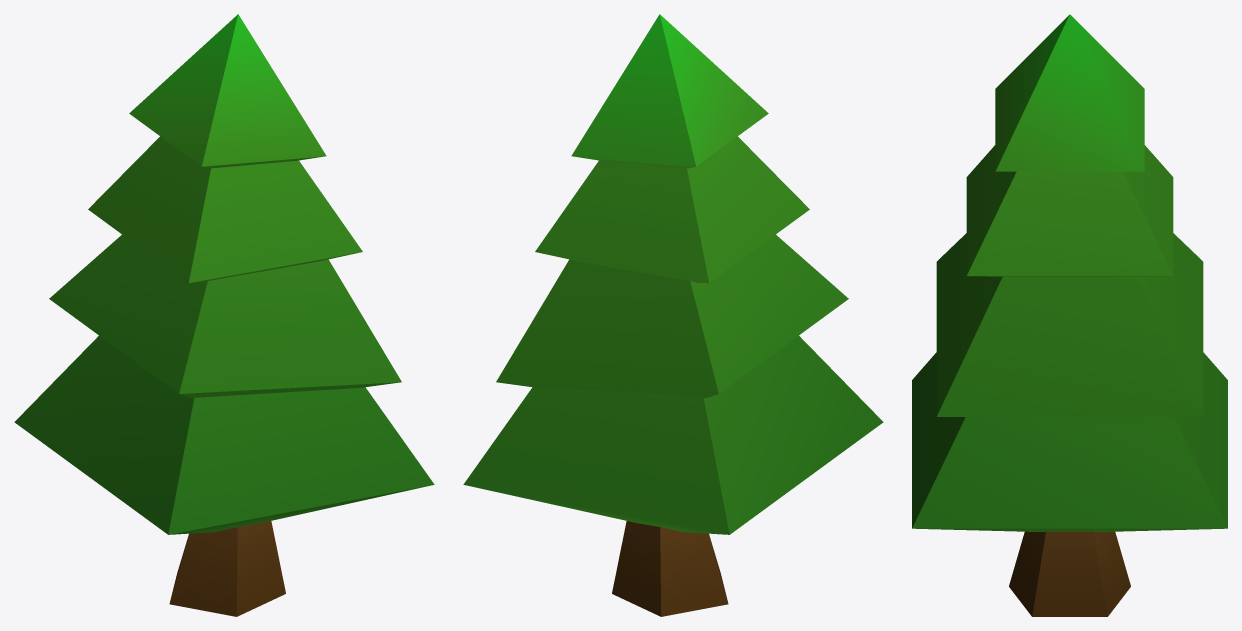
File: TriangleTree.FBX
The picture shows the model from 3 angles, left to right: view 1: azimuth 30°, elevation 25°; view 2: azimuth 150°, elevation 25°; view 3: azimuth 270°, elevation 25°; orthographic projection. The views are drawn at different scales.
Parts seen in each view (by area): view 1: TriangleTree; view 2: TriangleTree; view 3: TriangleTree.
Boxes of the visible parts, box(x1,y1,x2,y2) form: TriangleTree: box(14, 14, 434, 616); TriangleTree: box(463, 14, 883, 616); TriangleTree: box(912, 14, 1227, 616).
Size of the model in its own units: 130 by 268 by 130.
